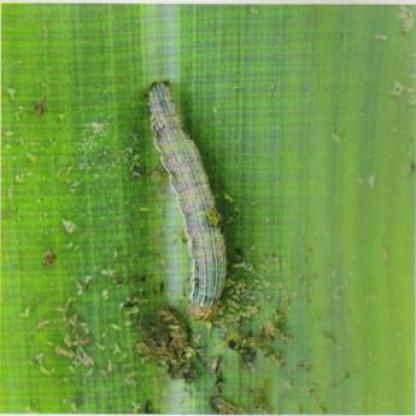armyworm: (142, 73, 235, 319)
